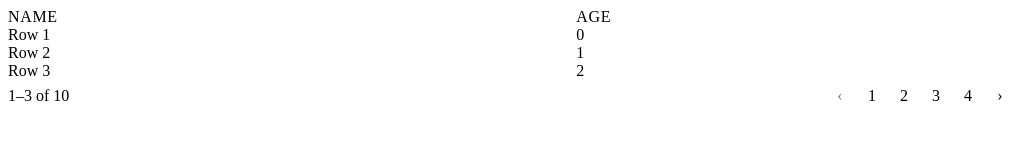
Test: DataGrid › navigates pages
The width and height of the screenshot is (1019, 160).
// Click page 2
Click the button "2" at coordinates (904, 96), box [888,80,920,112]
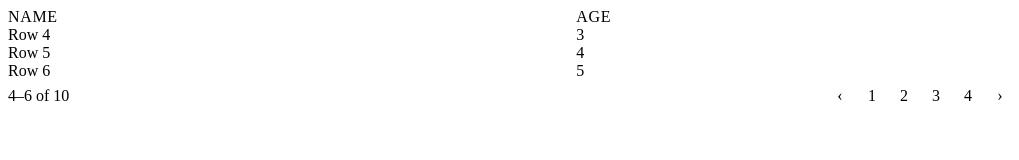
Check: the text "Row 1" is gone
Check: the text "Row 4" is shown, box [8,26,576,44]
Check: the text "Row 6" is shown, box [8,62,576,80]
